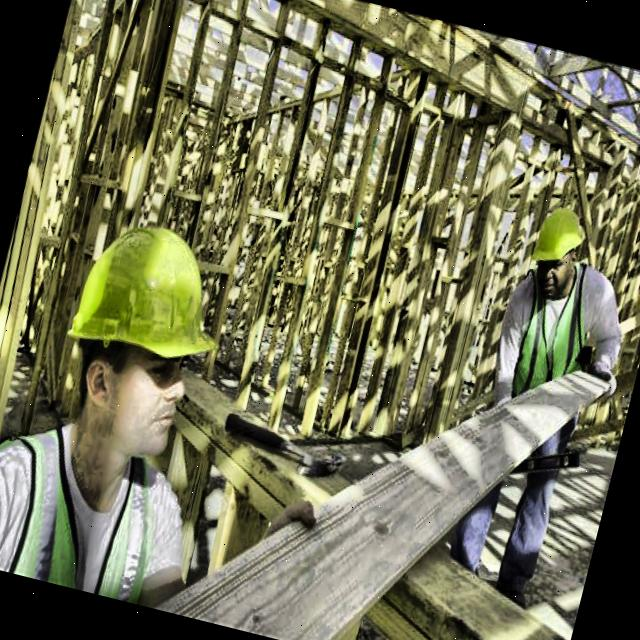helmet: (28, 177, 260, 502), (515, 199, 598, 300)
